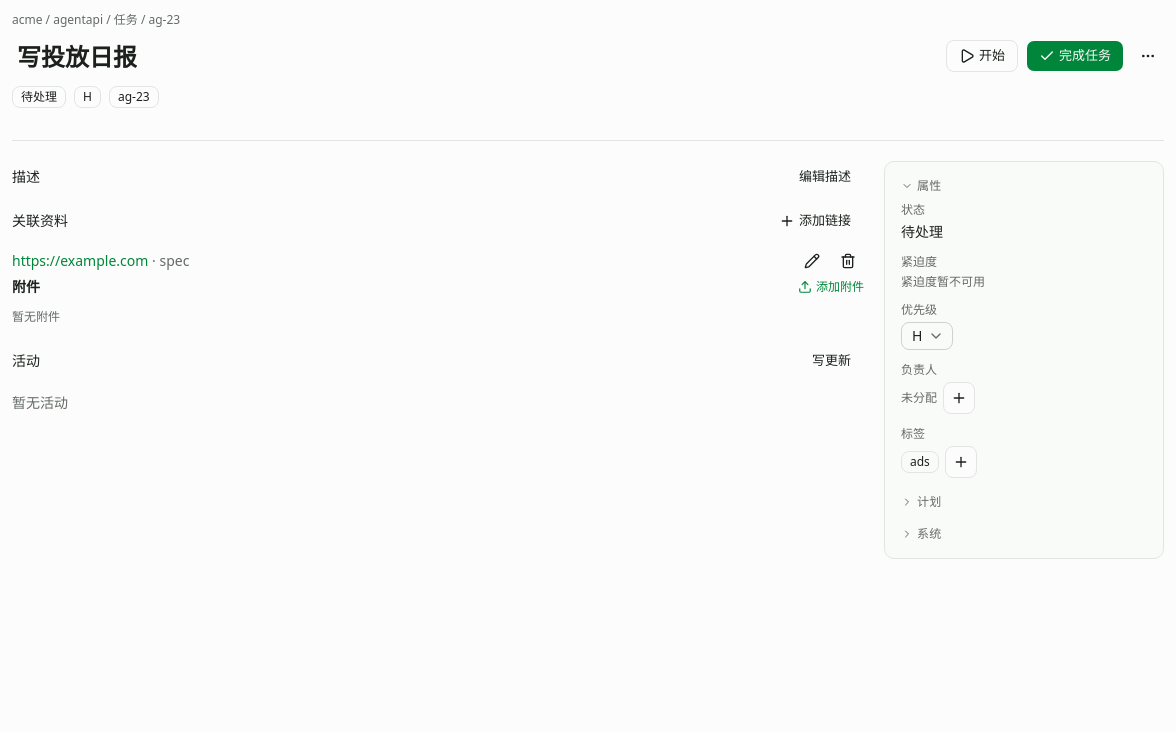
Test case: TaskDetailPage › runs start and done actions and renders the returned completed state
expect the text "写投放日报" is shown: met, box [17, 41, 137, 73]
What coordinates should you click on to do the following:
click the button "开始"
I would click on:
 (982, 56)
Its box is [946, 40, 1018, 72].
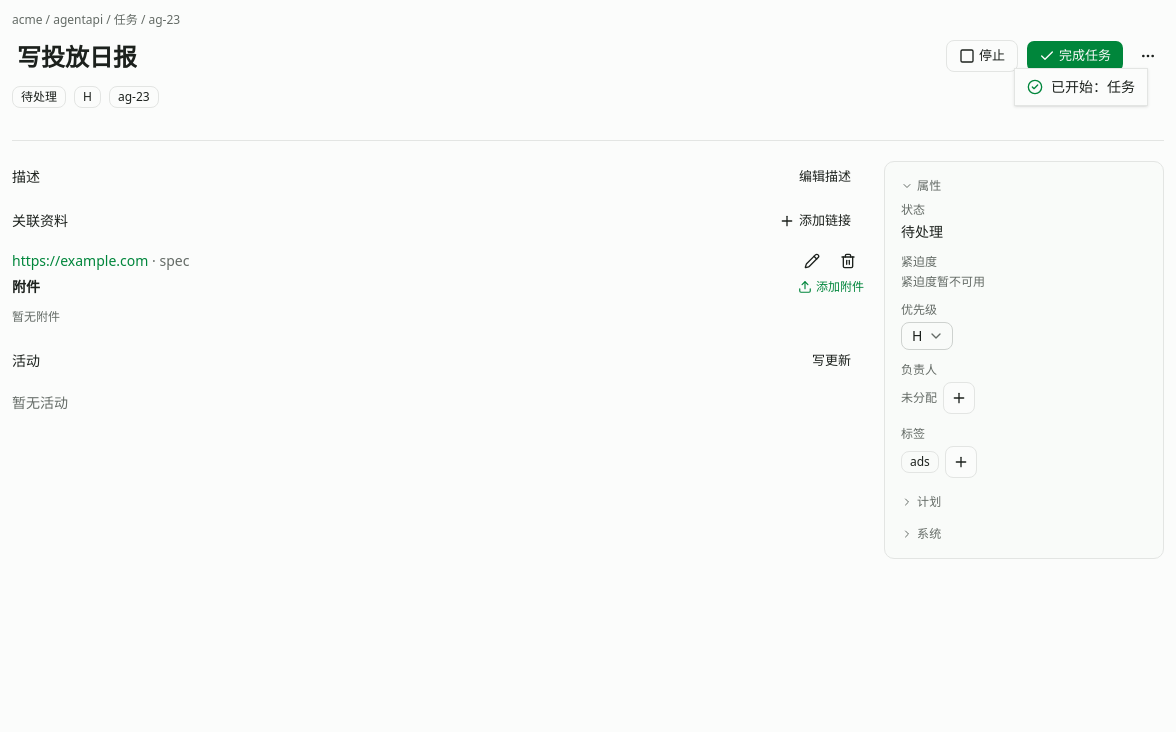
What coordinates should you click on to do the following:
click the button "完成任务"
I would click on:
 (1075, 56)
Its box is [1026, 40, 1124, 72].
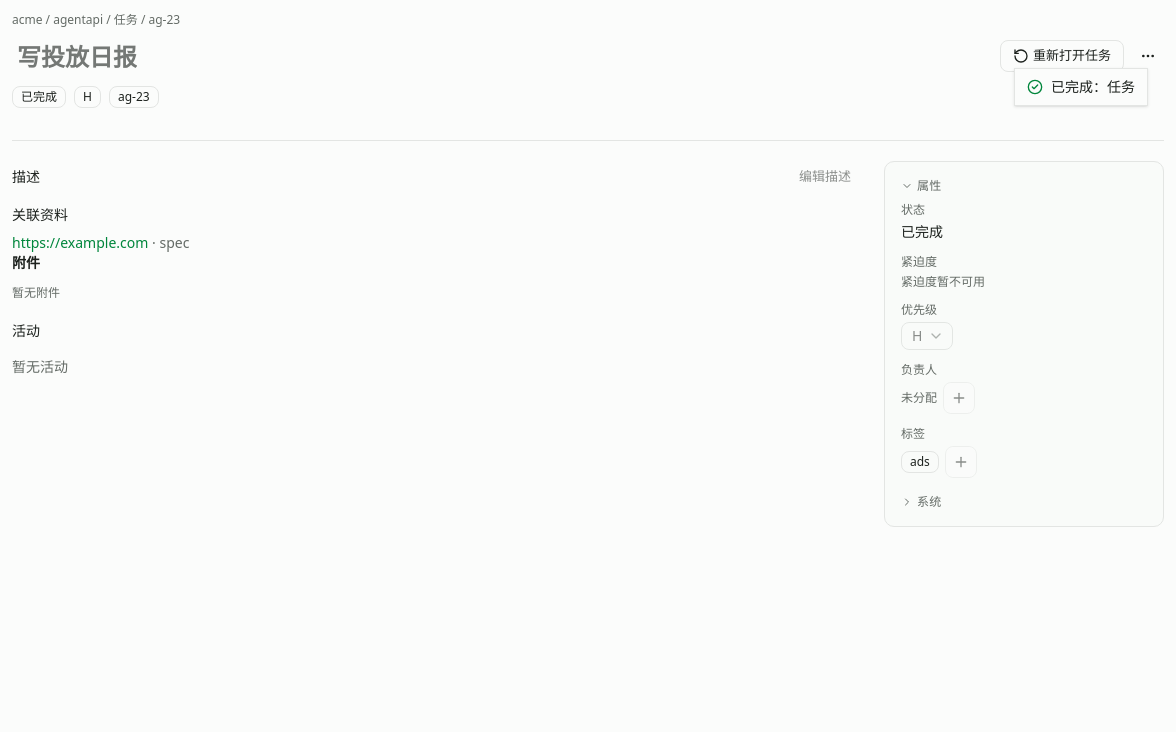
expect the button "重新打开任务" is shown: met, box [1000, 40, 1124, 72]
